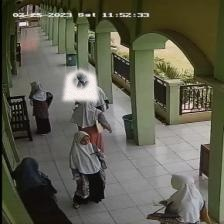Mukena: (62, 69, 99, 100)
